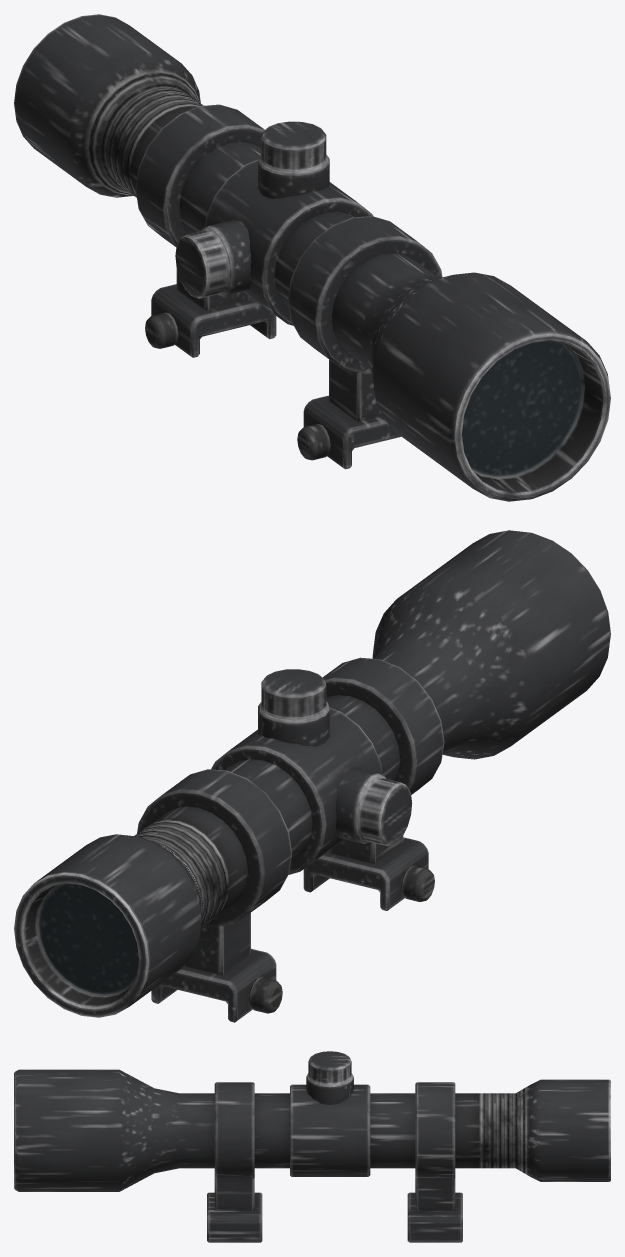
The model's file is scope_4x.glb.
3 views of the same model, one above another, from view 1: azimuth 30°, elevation 25°; view 2: azimuth 150°, elevation 25°; view 3: azimuth 270°, elevation 25° (orthographic). The views are drawn at different scales.
Parts seen in each view (by area): view 1: scope_4x, scope_4x_glass; view 2: scope_4x, scope_4x_glass; view 3: scope_4x.
Part boxes in pixels (box(x1,y1,x2,y2)): scope_4x: box(14, 14, 610, 501); scope_4x_glass: box(462, 341, 584, 478); scope_4x: box(14, 530, 610, 1022); scope_4x_glass: box(37, 884, 138, 995); scope_4x: box(14, 1051, 610, 1242).
Size of the model in its own units: 0.056 by 0.075 by 0.238.
2 materials, 1 textured.
